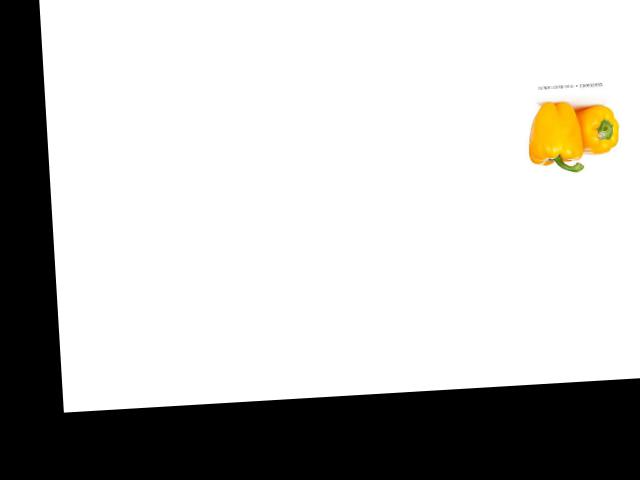bell_pepper: (573, 101, 621, 159)
